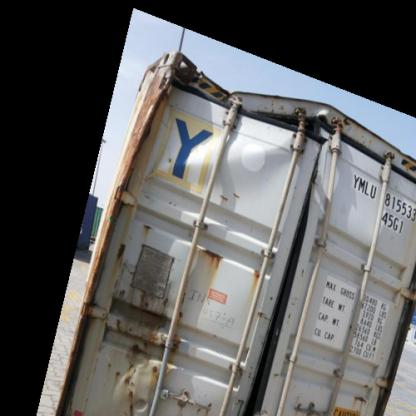Damage: (138, 47, 240, 209), (102, 237, 184, 410), (241, 84, 355, 178), (195, 243, 232, 274)
